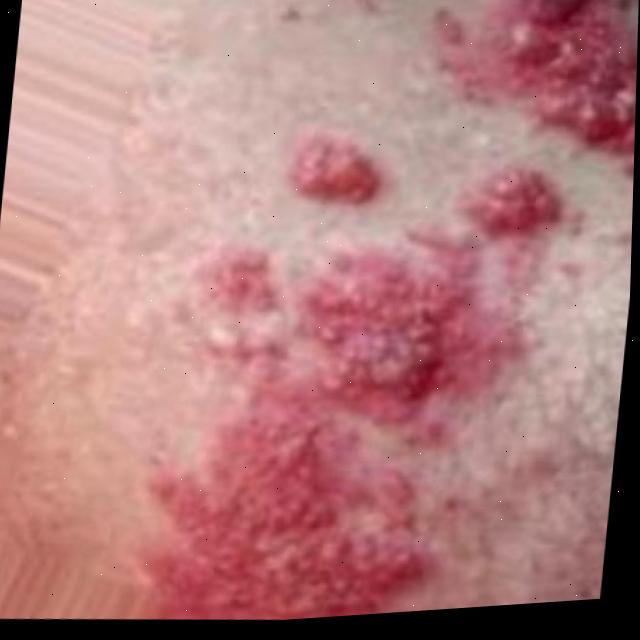Shingles: (179, 226, 468, 627), (466, 0, 640, 163), (476, 172, 558, 233), (303, 140, 361, 189)
